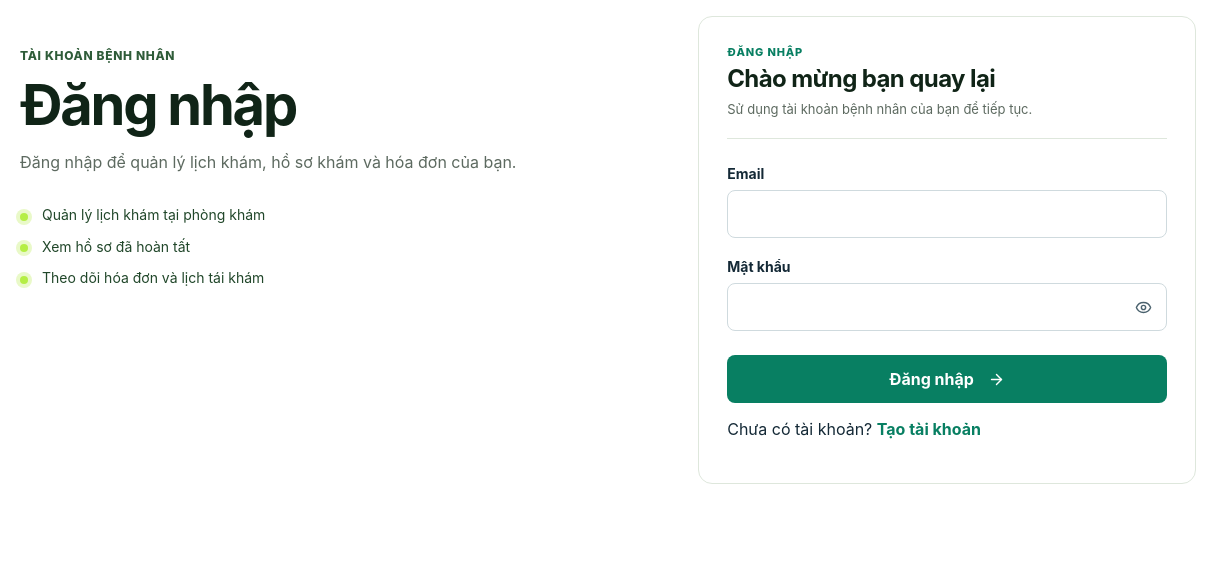
rejects a staff identity at Patient login when it has no linked patient profile
Step 1. Type "staff@test.invalid" into the field labelled "Email" → (947, 214), box [727,190,1167,238]
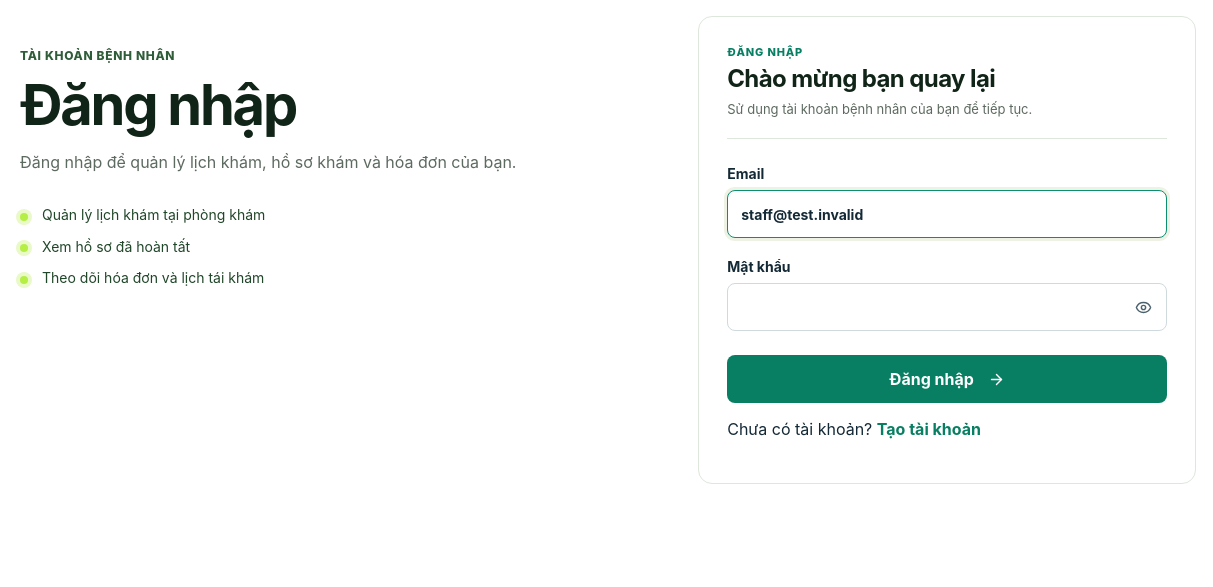
Step 2. Type "test-password" into the password field labelled "Mật khẩu" → (947, 307), box [727,283,1167,331]
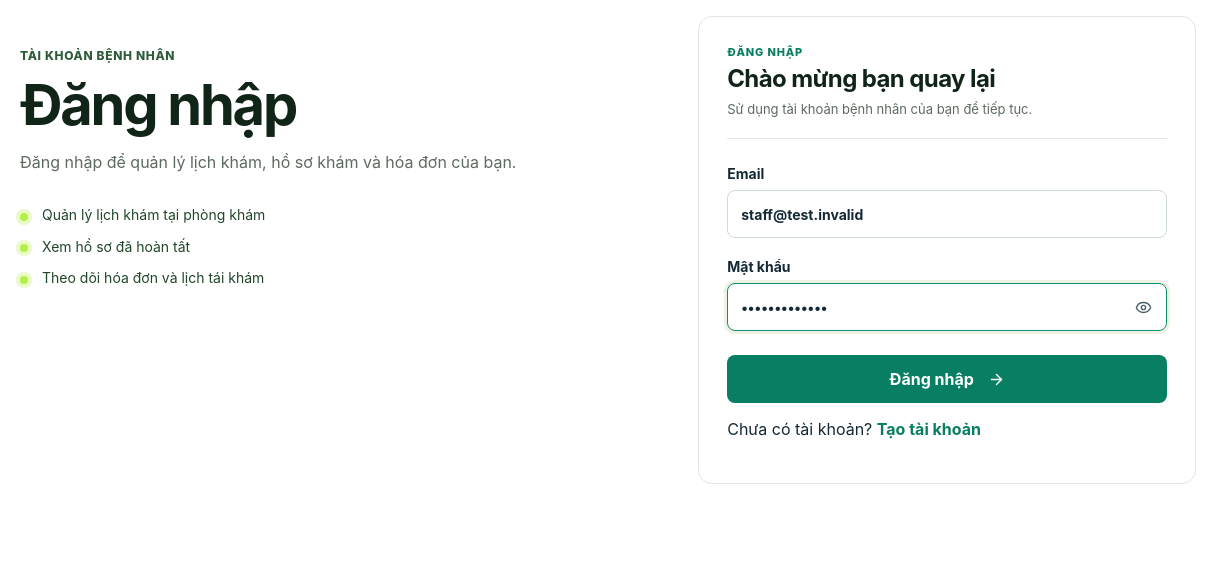
Step 3. Click the button "Đăng nhập" → (947, 379), box [727,355,1167,403]
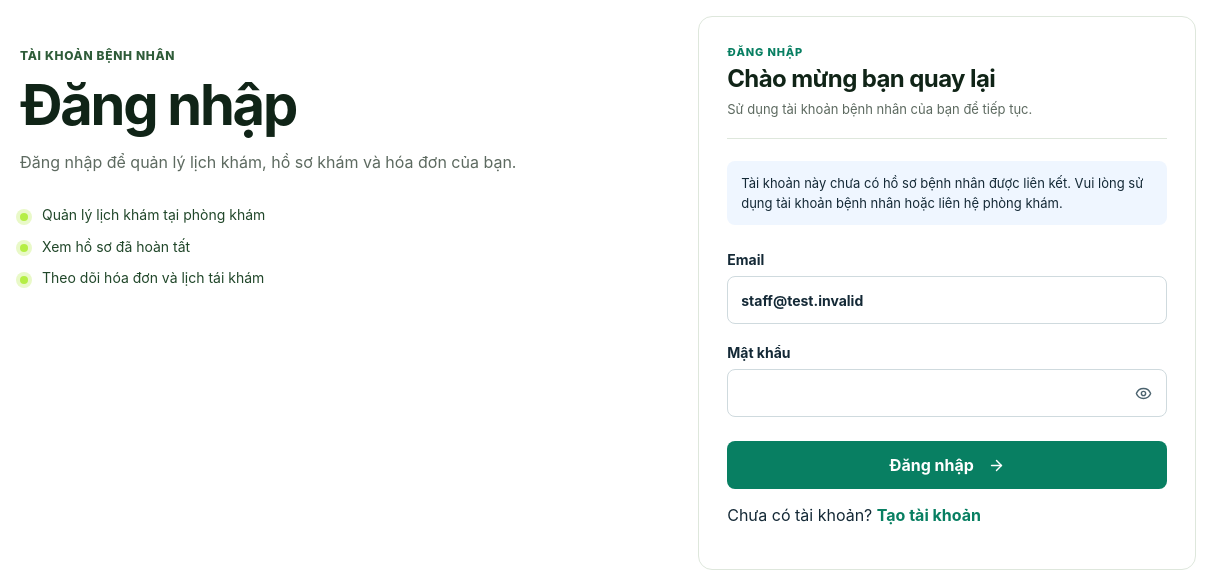
expect the message shows "chưa có hồ sơ bệnh nhân": met, box [741,175,1143,211]
